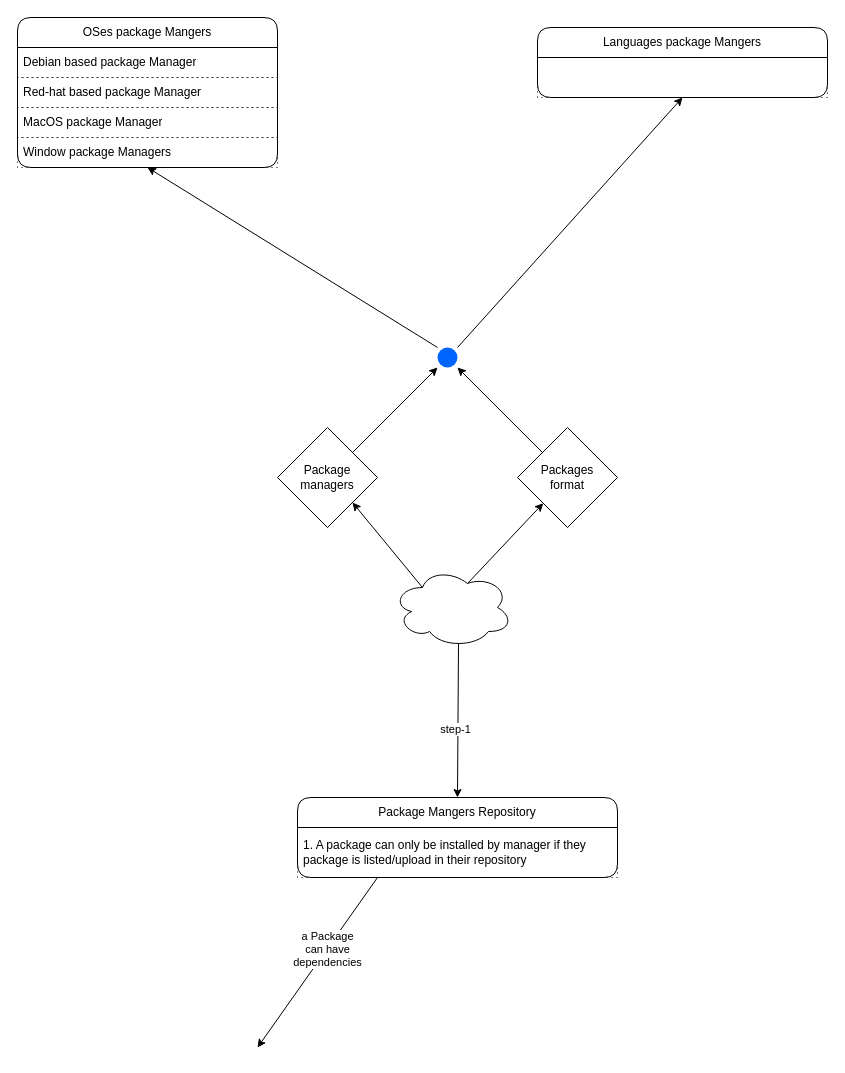
Image size: 845x1073. Some labels were removed from this diagram. Each missing label, with the centre of its shape:
"All programming languages have their own package managers" goes at (x=682, y=77).
"Packages" goes at (x=452, y=607).
